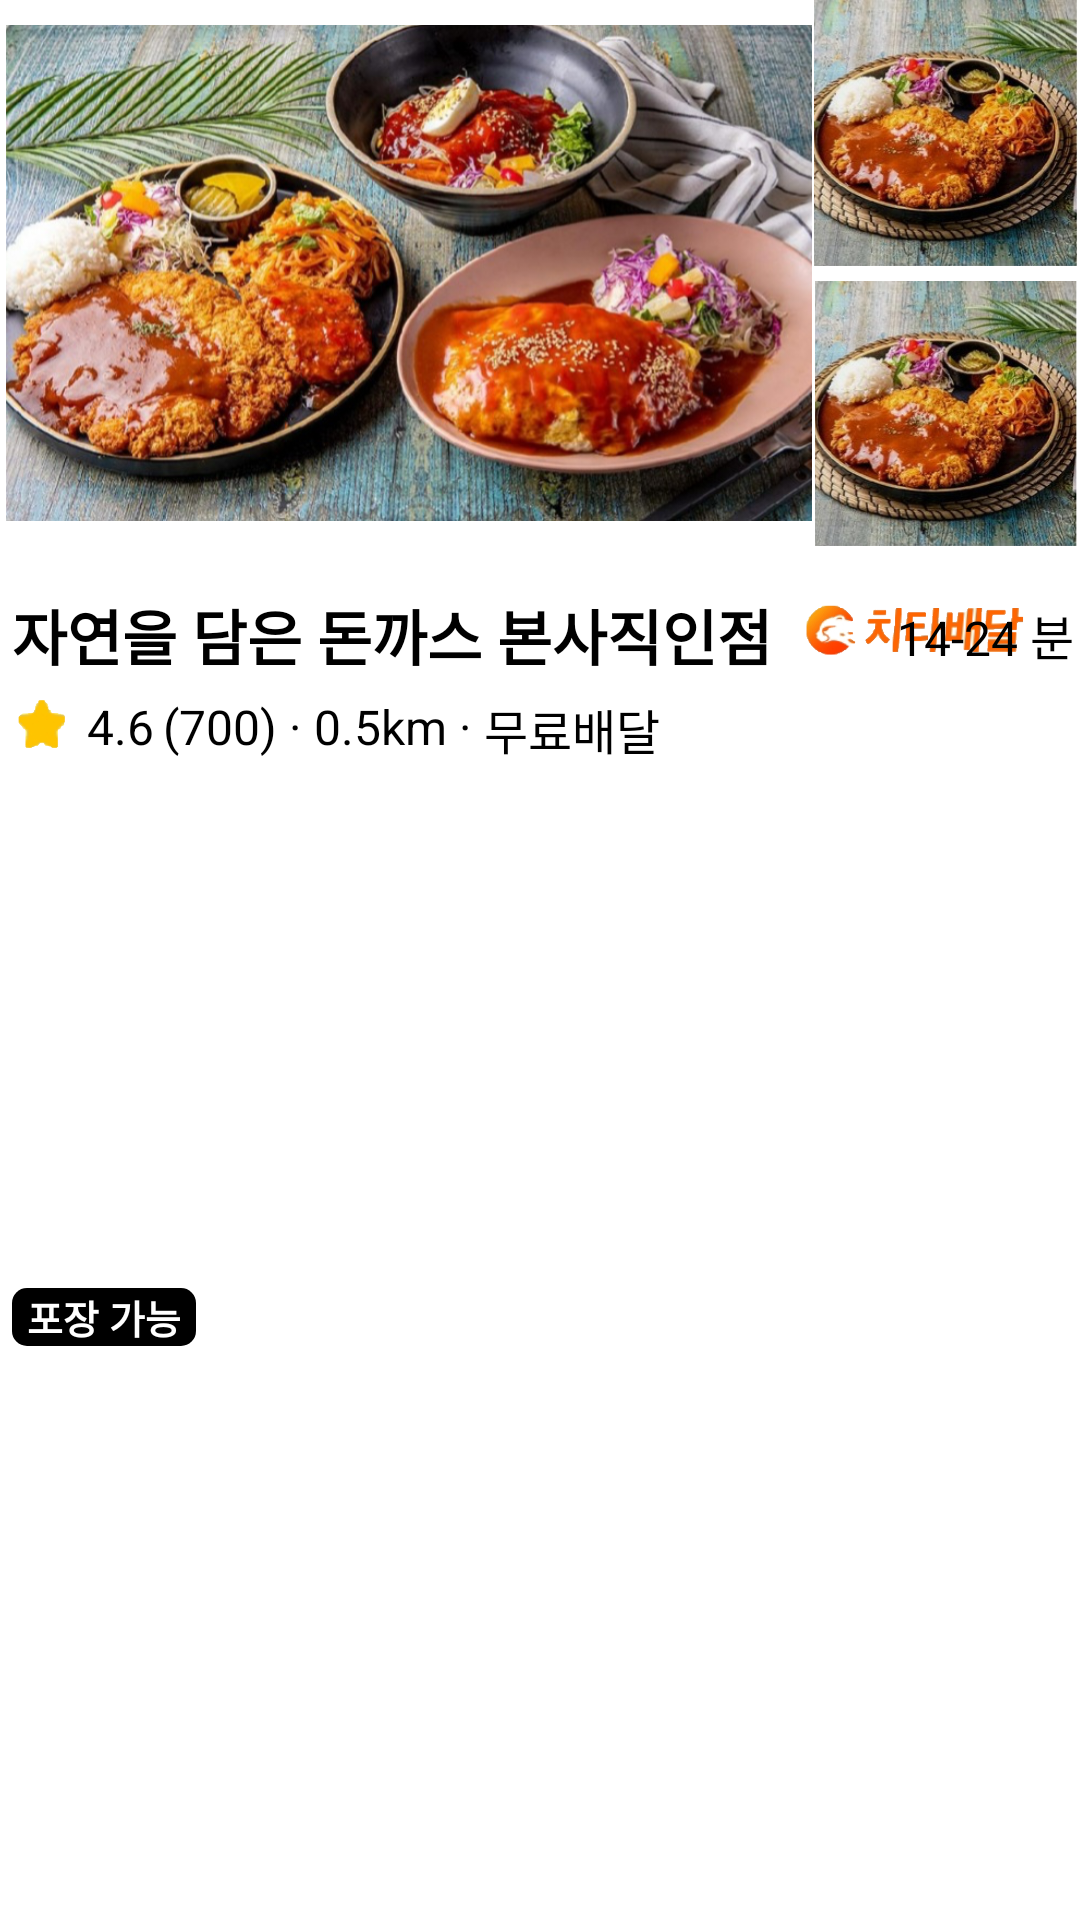

Named icons in this screenshot (1080×1920) and their centers, point (x, y):
star: point (41, 724)
